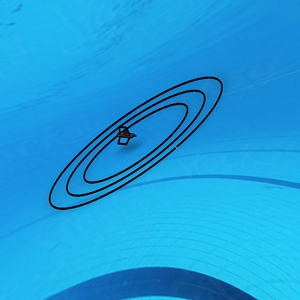circle: (48, 73, 237, 217)
submarine: (114, 125, 138, 147)
